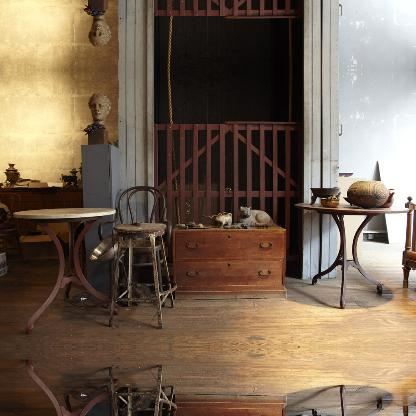Cat: (237, 204, 275, 226), (216, 211, 232, 227)
